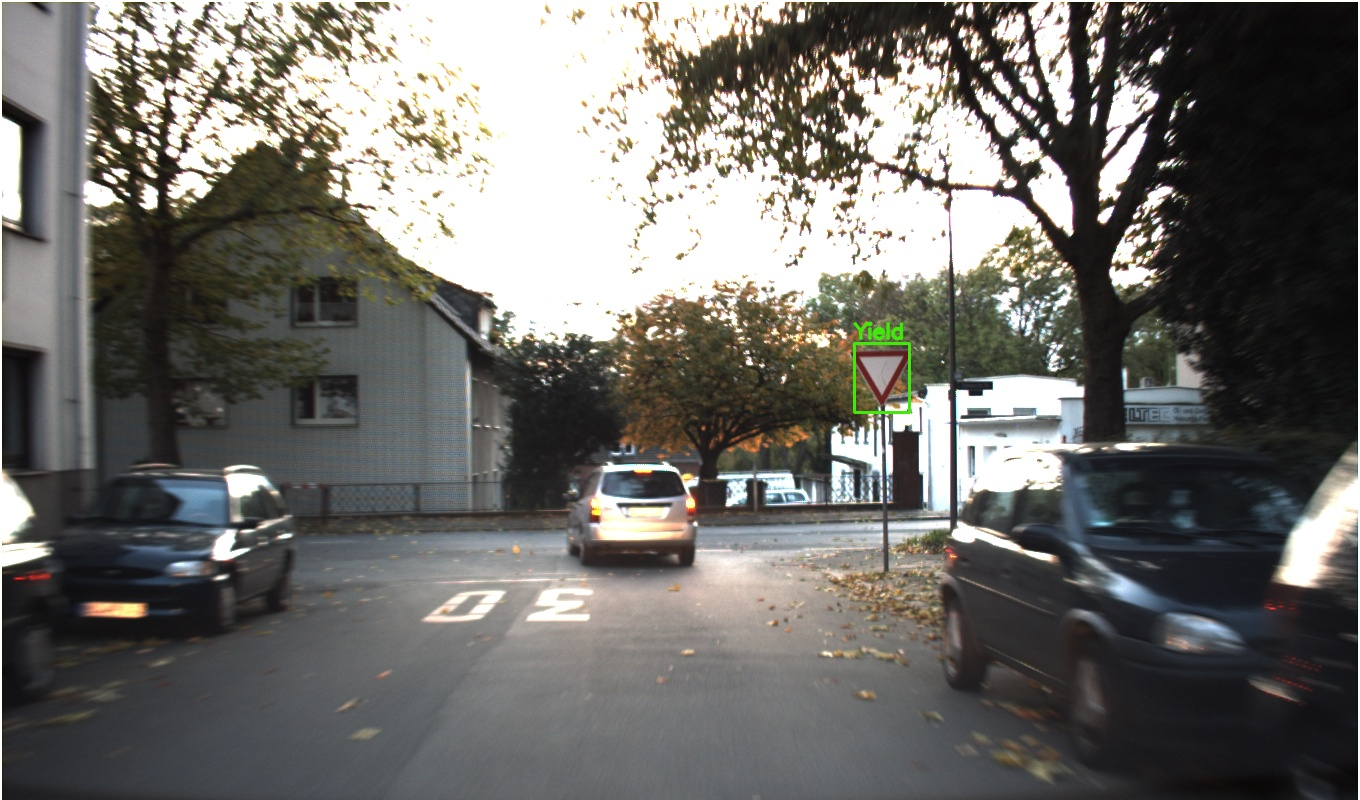Beware of ice/snow: (863, 505, 902, 540), (413, 507, 451, 541)
